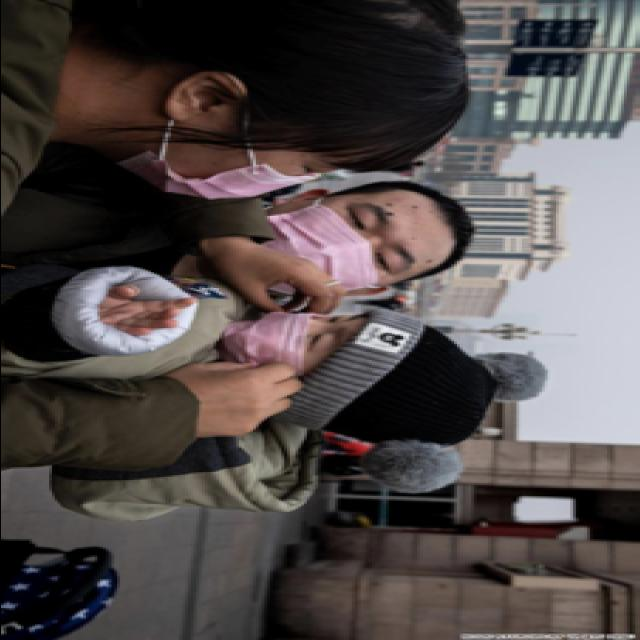with_mask: (119, 118, 340, 200), (244, 194, 422, 292), (224, 312, 366, 374)
